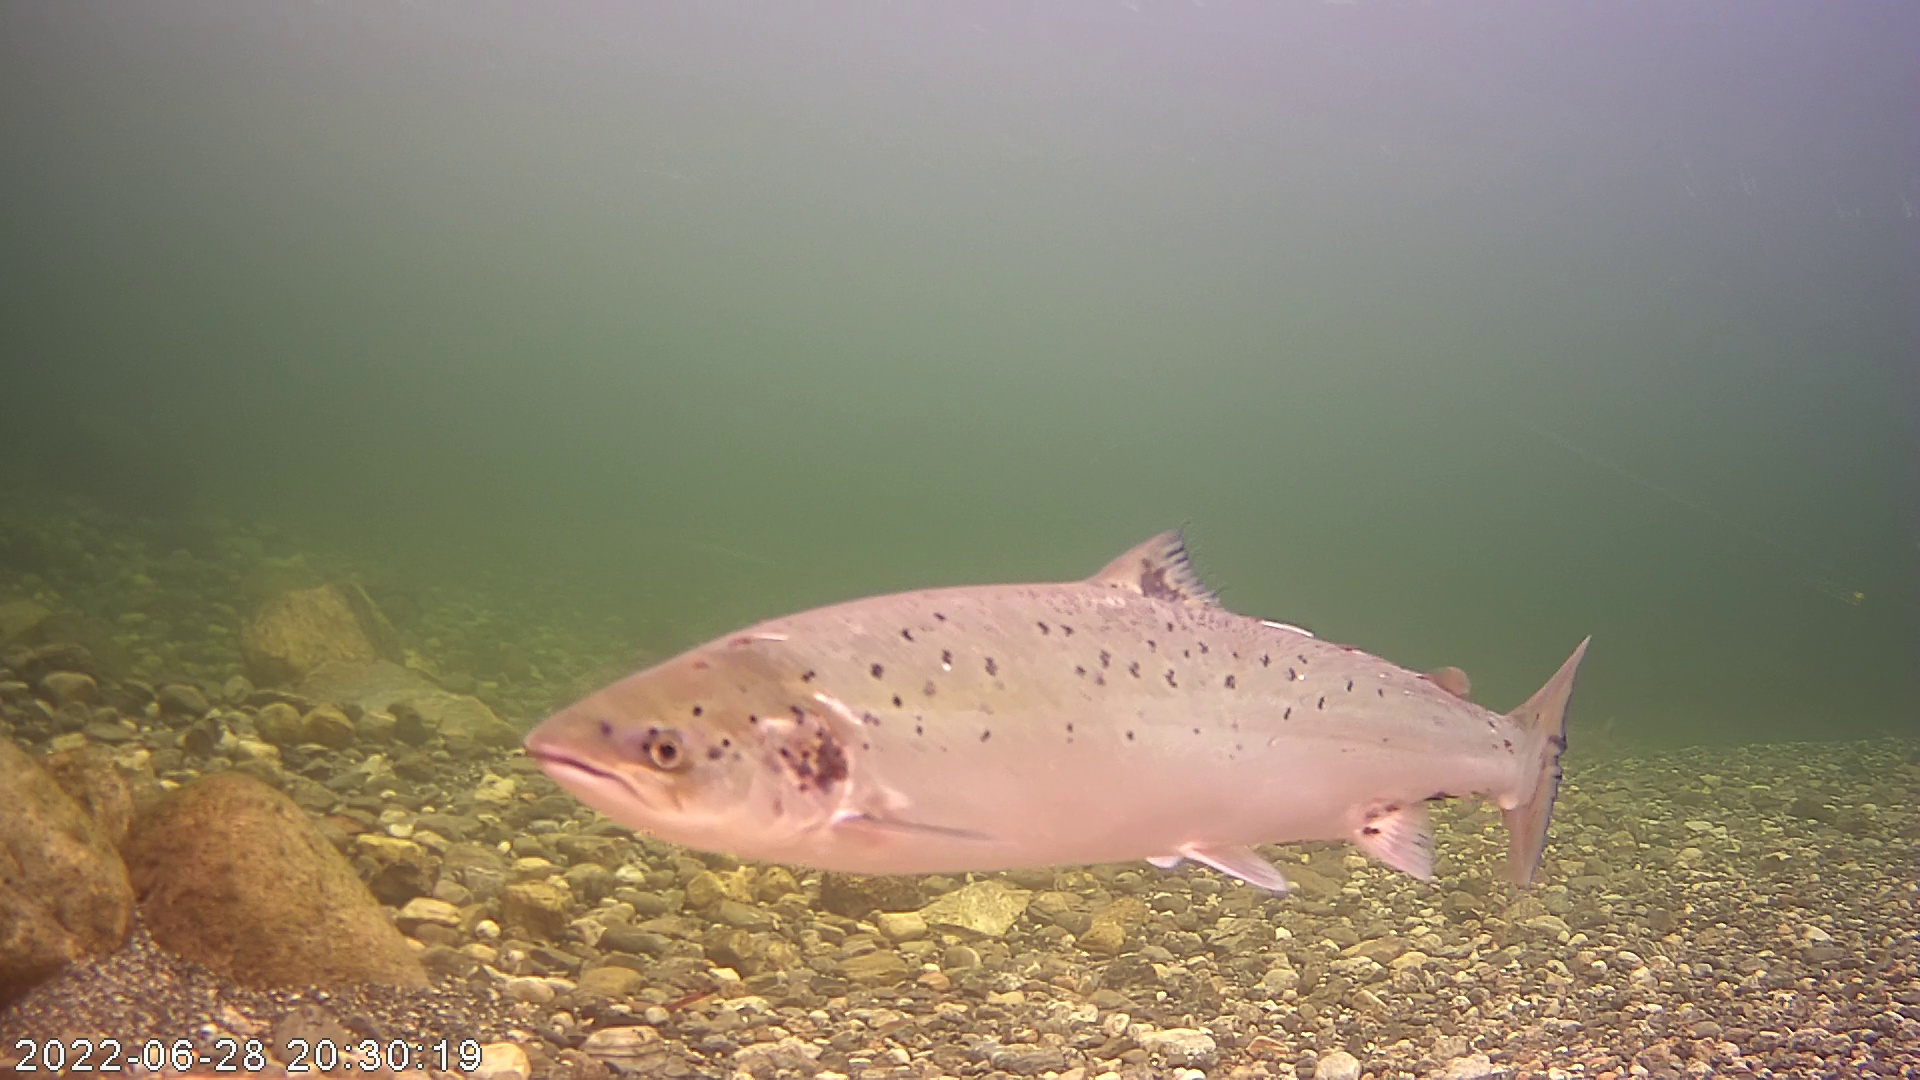salmon: (512, 508, 1598, 899)
